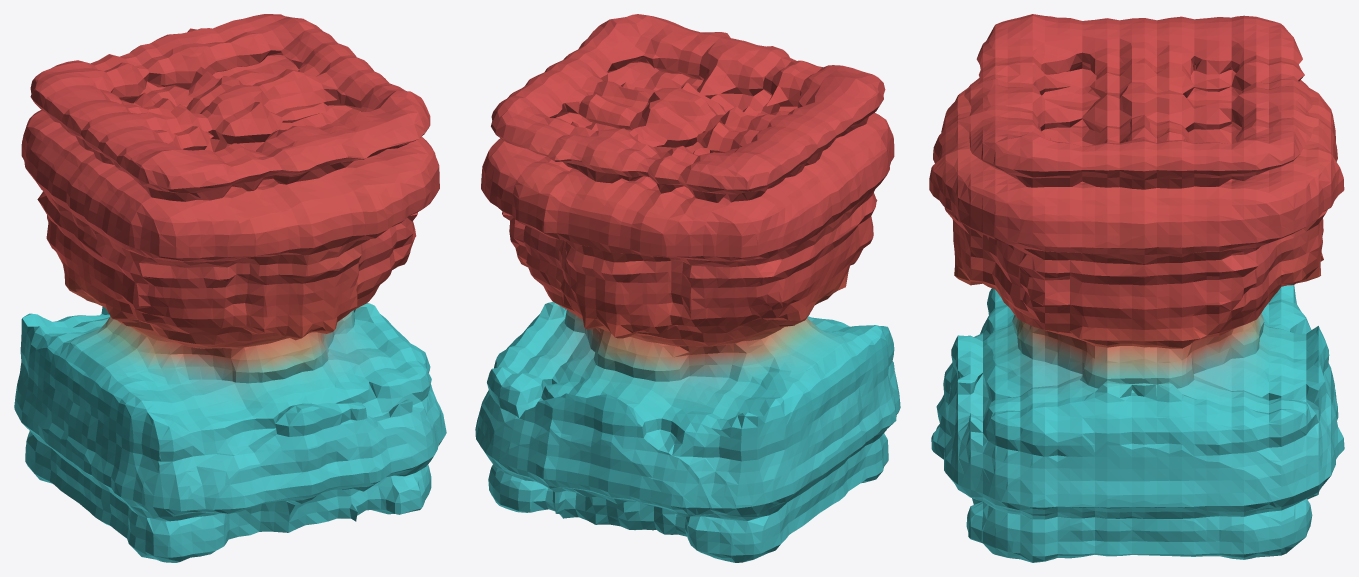
The picture shows the model from 3 angles, left to right: view 1: azimuth 30°, elevation 25°; view 2: azimuth 150°, elevation 25°; view 3: azimuth 270°, elevation 25°; orthographic projection. The views are drawn at different scales.
Visible parts, largest first — view 1: geometry_0; view 2: geometry_0; view 3: geometry_0.
Part boxes in pixels (<box>): geometry_0: <box>14,14,446,562</box>; geometry_0: <box>475,14,900,562</box>; geometry_0: <box>929,14,1344,562</box>.
Size of the model in its own units: 1.33 by 1.58 by 1.42.
